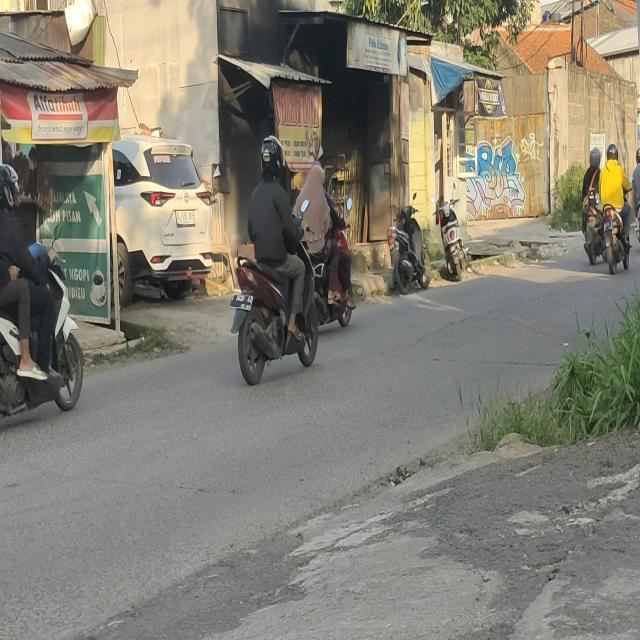helmet: (260, 134, 286, 180), (0, 163, 20, 211), (606, 144, 619, 162), (590, 149, 600, 166), (636, 148, 640, 164)
no-helmet: (312, 165, 325, 187)
